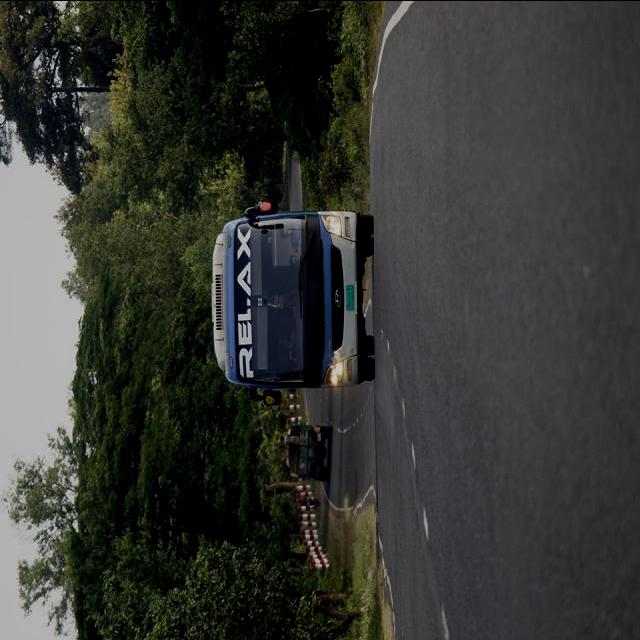bus: (211, 201, 378, 408)
